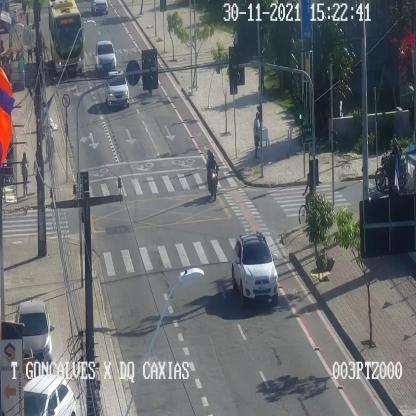bicycle: (298, 181, 326, 222)
bus: (49, 0, 88, 79)
car: (232, 233, 278, 308), (16, 302, 53, 363), (24, 376, 74, 416), (106, 72, 130, 105), (95, 40, 116, 70), (92, 0, 109, 18)
motorbike: (375, 132, 411, 193), (206, 150, 218, 202)
person: (252, 112, 260, 157), (22, 150, 29, 196)
